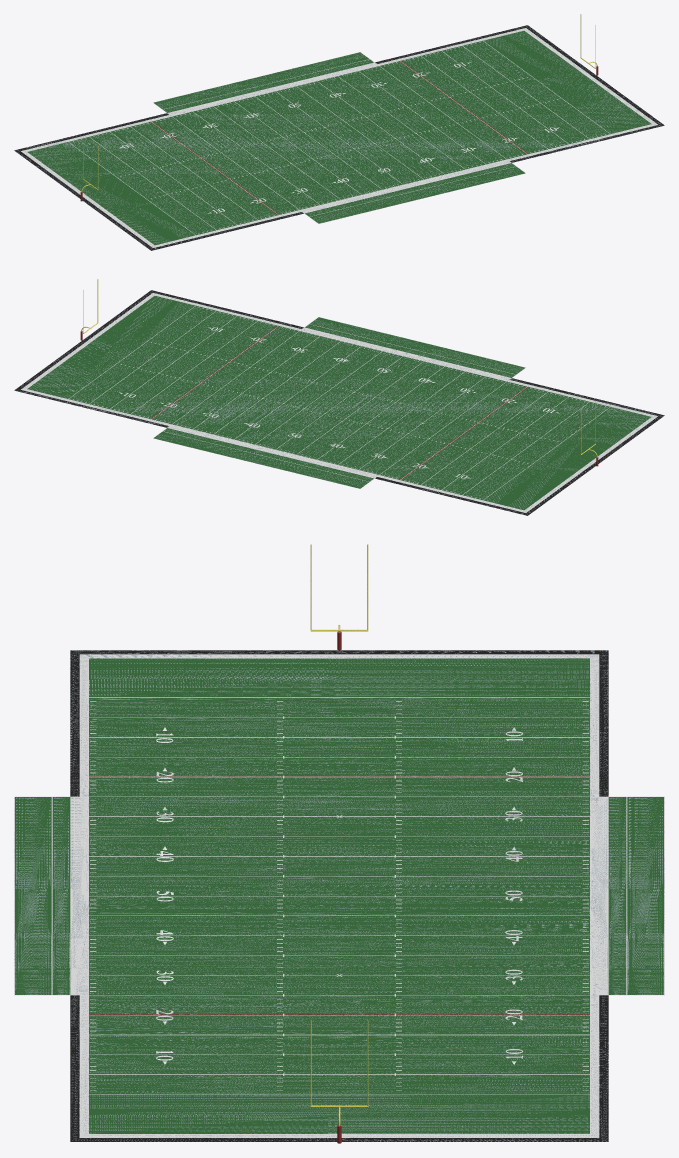
3 views of the same model, one above another, from view 1: azimuth 30°, elevation 25°; view 2: azimuth 150°, elevation 25°; view 3: azimuth 270°, elevation 25° (orthographic). The views are drawn at different scales.
Visible parts, largest first — view 1: SketchUp (×29); view 2: SketchUp (×29); view 3: SketchUp (×29).
Boxes of the visible parts, box(x1,y1,x2,y2) form: SketchUp (×29): box(14, 25, 664, 250); SketchUp (×29): box(14, 290, 664, 515); SketchUp (×29): box(14, 650, 664, 1141).
Size of the model in its own units: 4493 by 2496 by 480.
9 materials, 4 textured.
